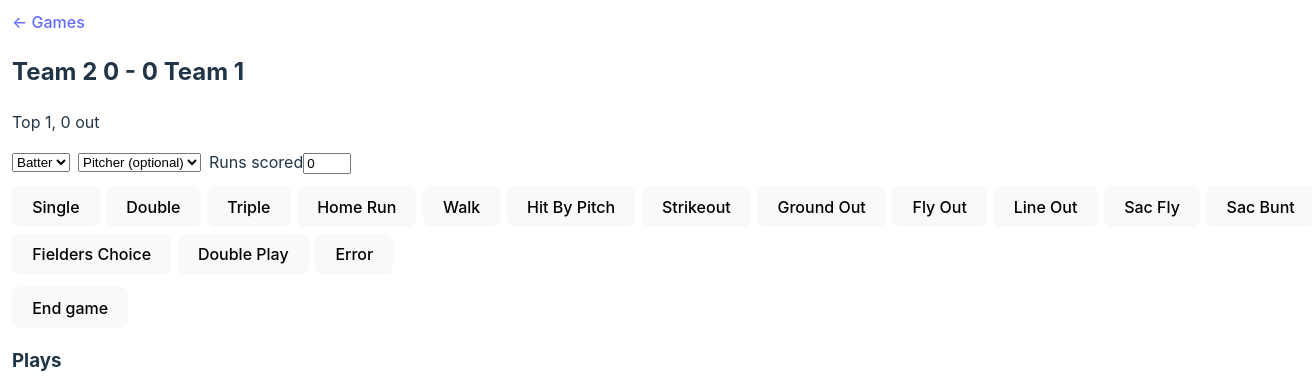
baseball scoring workflows › finalizes a game and hides the scoring controls
What coordinates should you click on to do the following:
click the button "End game"
I would click on:
 (70, 308)
Its box is left=12, top=287, right=128, bottom=328.
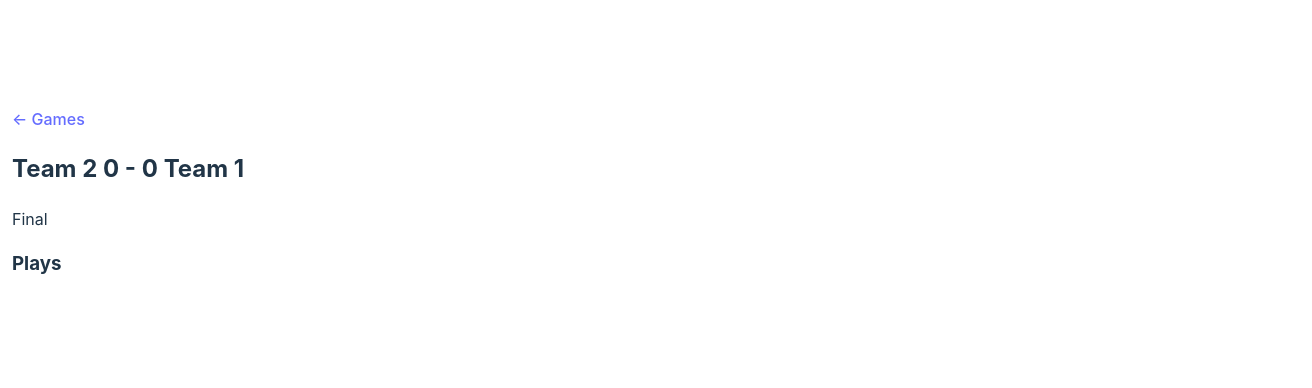
Expected: the text "Final" is shown, left=12, top=209, right=48, bottom=229
Expected: the button "single" is gone
